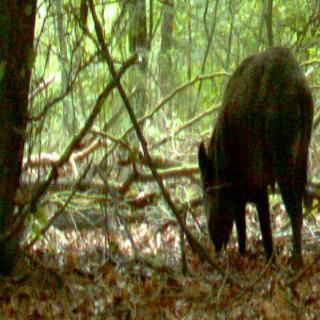Pig: (192, 8, 320, 303)
